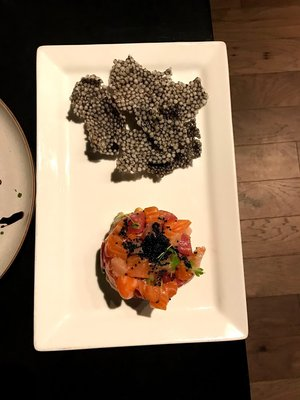sandwich: (98, 206, 207, 311)
sushi: (67, 55, 209, 183)
